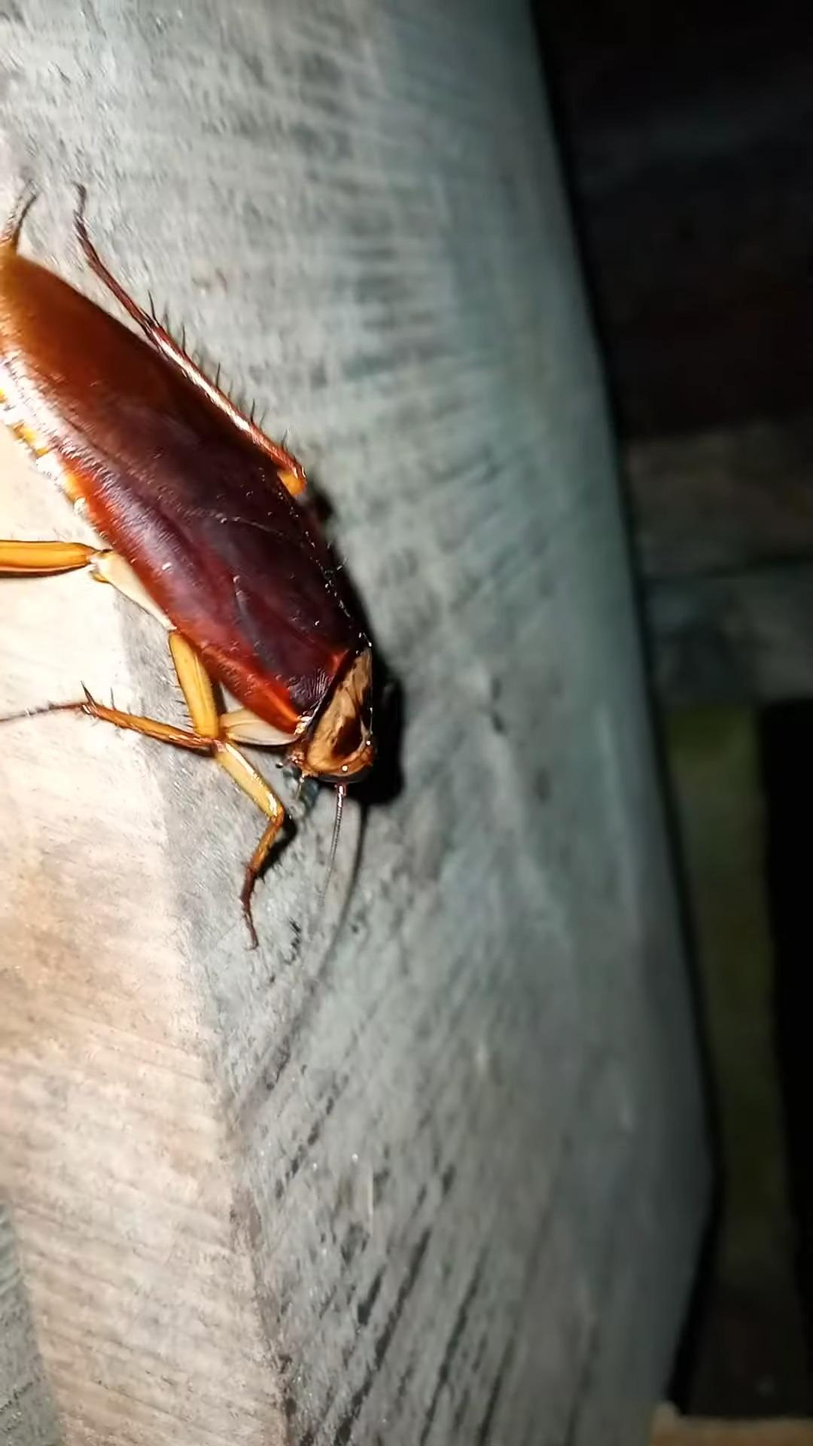cockroach: (0, 148, 466, 949)
